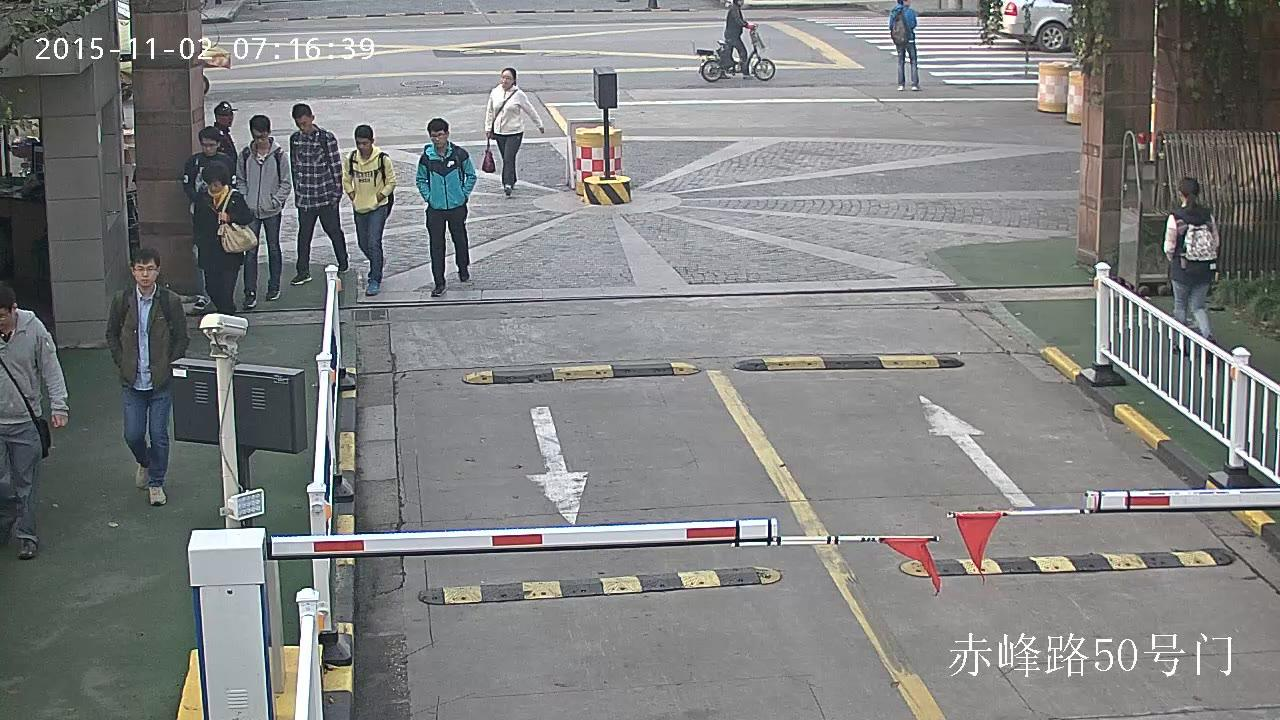person: (105, 245, 192, 506), (0, 280, 72, 560), (235, 114, 292, 310), (415, 117, 477, 297), (289, 103, 350, 285), (1163, 176, 1220, 365), (192, 160, 258, 316), (181, 125, 236, 310), (342, 124, 396, 295), (481, 68, 545, 196), (696, 0, 776, 82), (888, 0, 920, 92), (720, 0, 756, 79), (211, 101, 239, 160)
